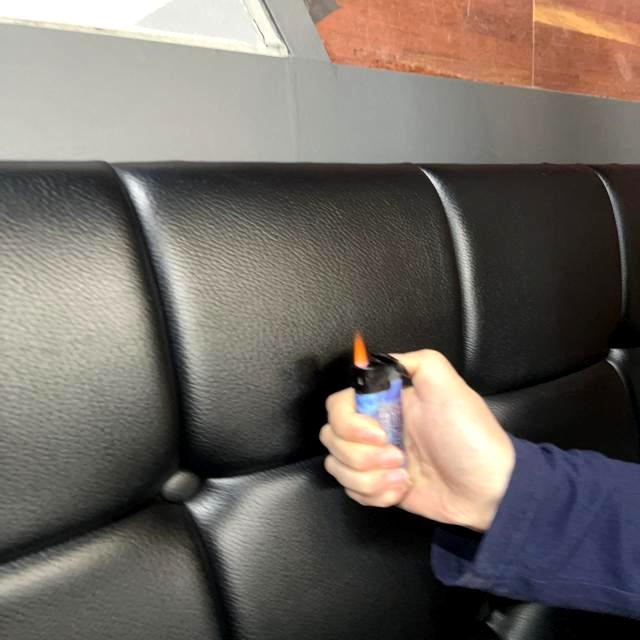fire: (352, 329, 372, 368)
